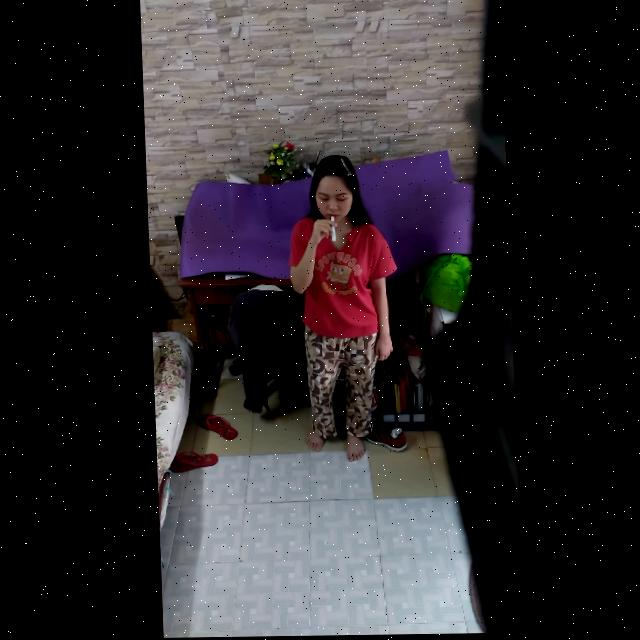cigarette: (329, 218, 334, 243)
